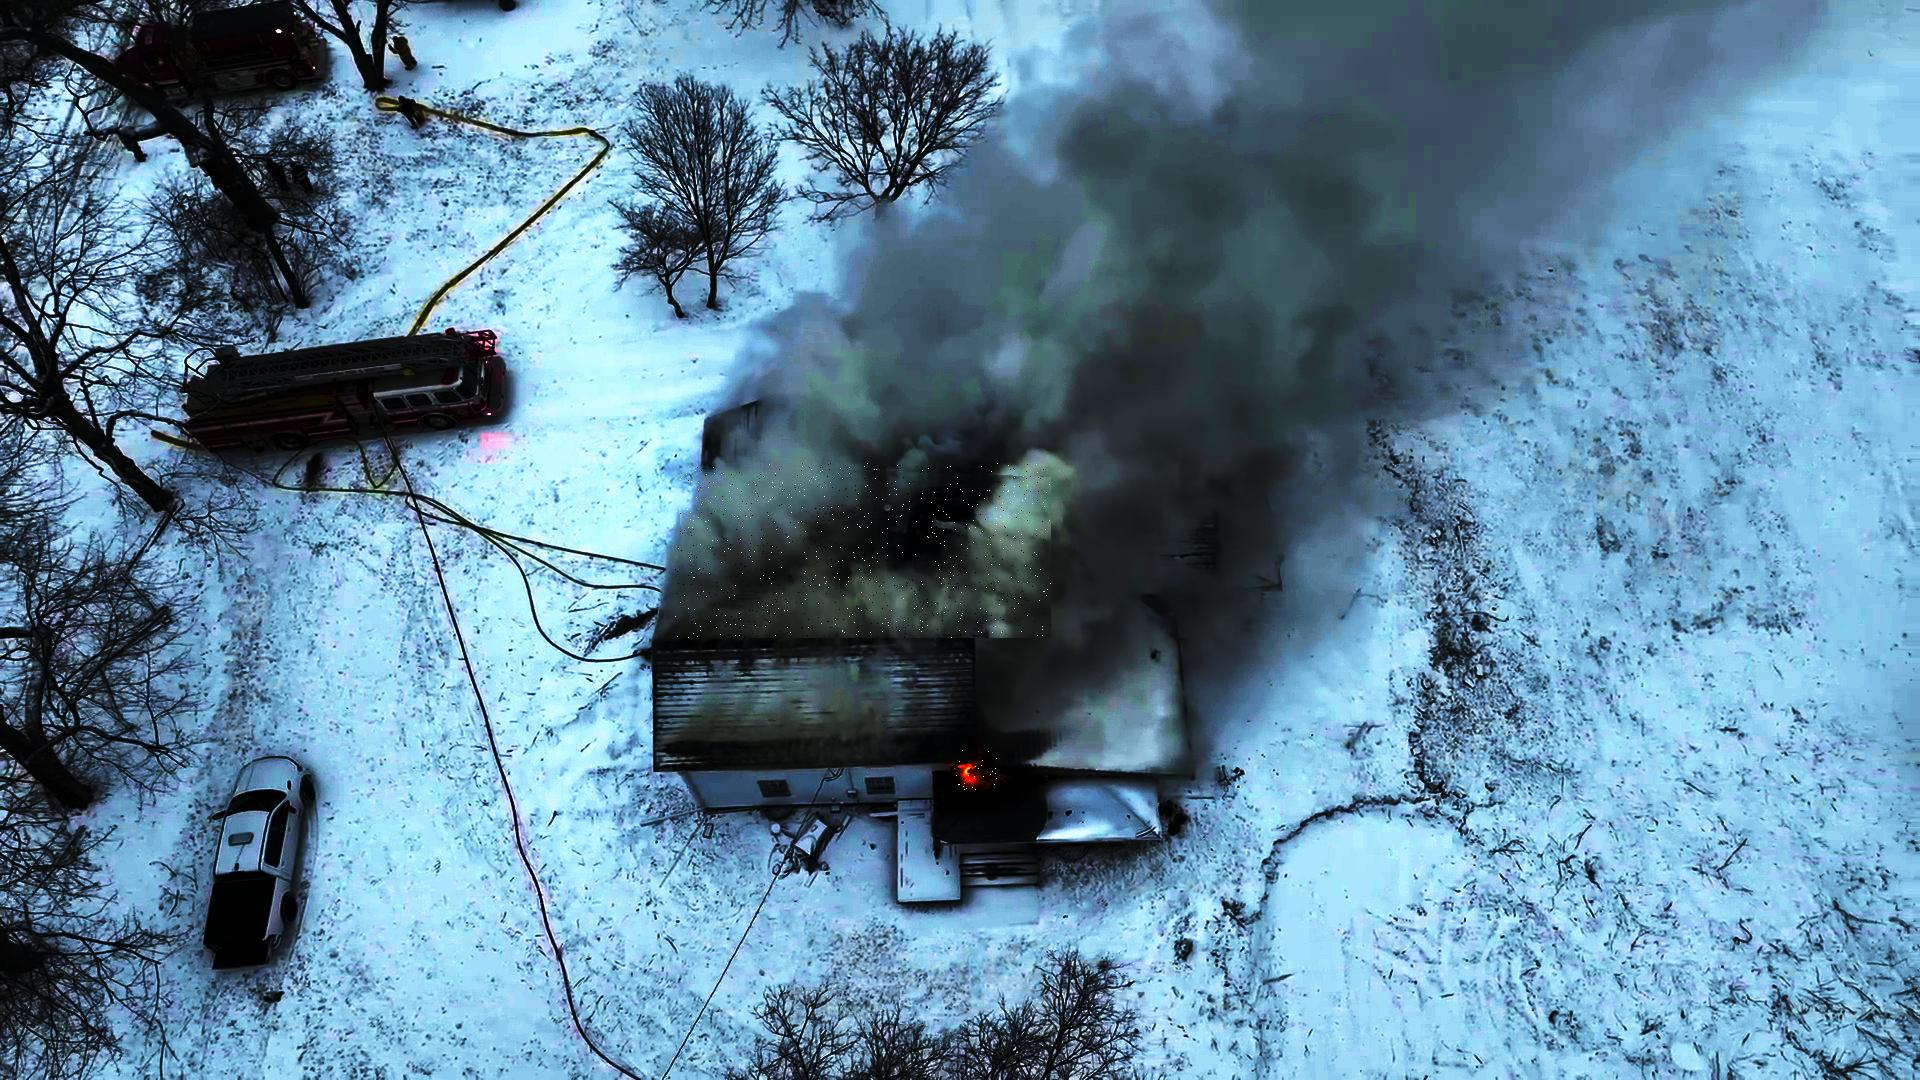fire: (951, 750, 997, 790)
smoke: (675, 463, 1051, 638)
